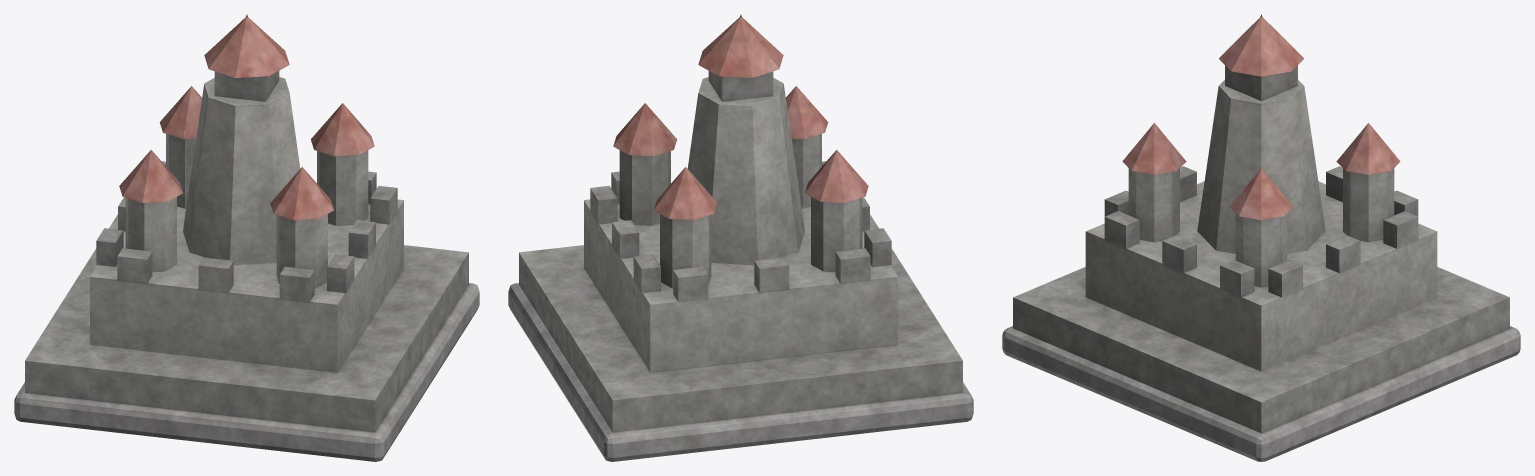
The model's file is grandfort.glb.
3 renders of one model, left to right at view 1: azimuth 30°, elevation 25°; view 2: azimuth 150°, elevation 25°; view 3: azimuth 270°, elevation 25°, orthographic. The views are drawn at different scales.
Visible parts, largest first — view 1: dilek; view 2: dilek; view 3: dilek.
Part boxes in pixels (<box>): dilek: <box>14,14,479,461</box>; dilek: <box>508,14,973,461</box>; dilek: <box>1002,14,1520,461</box>.
Bounding box in the file's own units: 2.42 × 1.76 × 2.42.
Materials: 1 (1 with a texture image).
